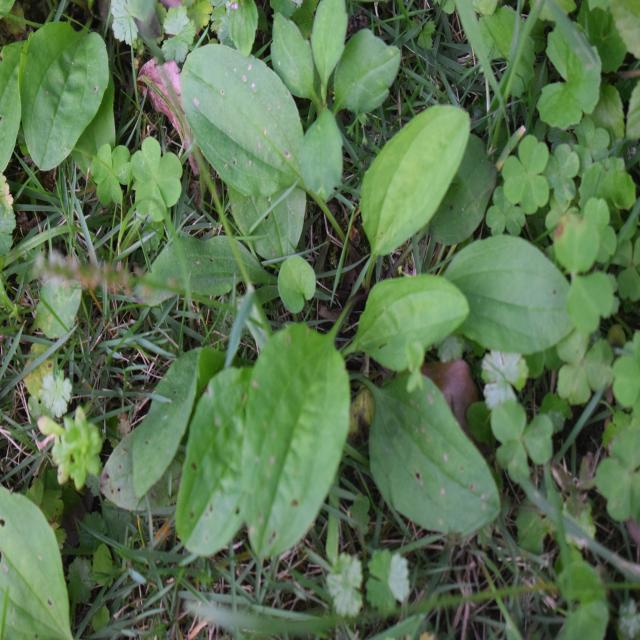plantain: (98, 39, 535, 577)
